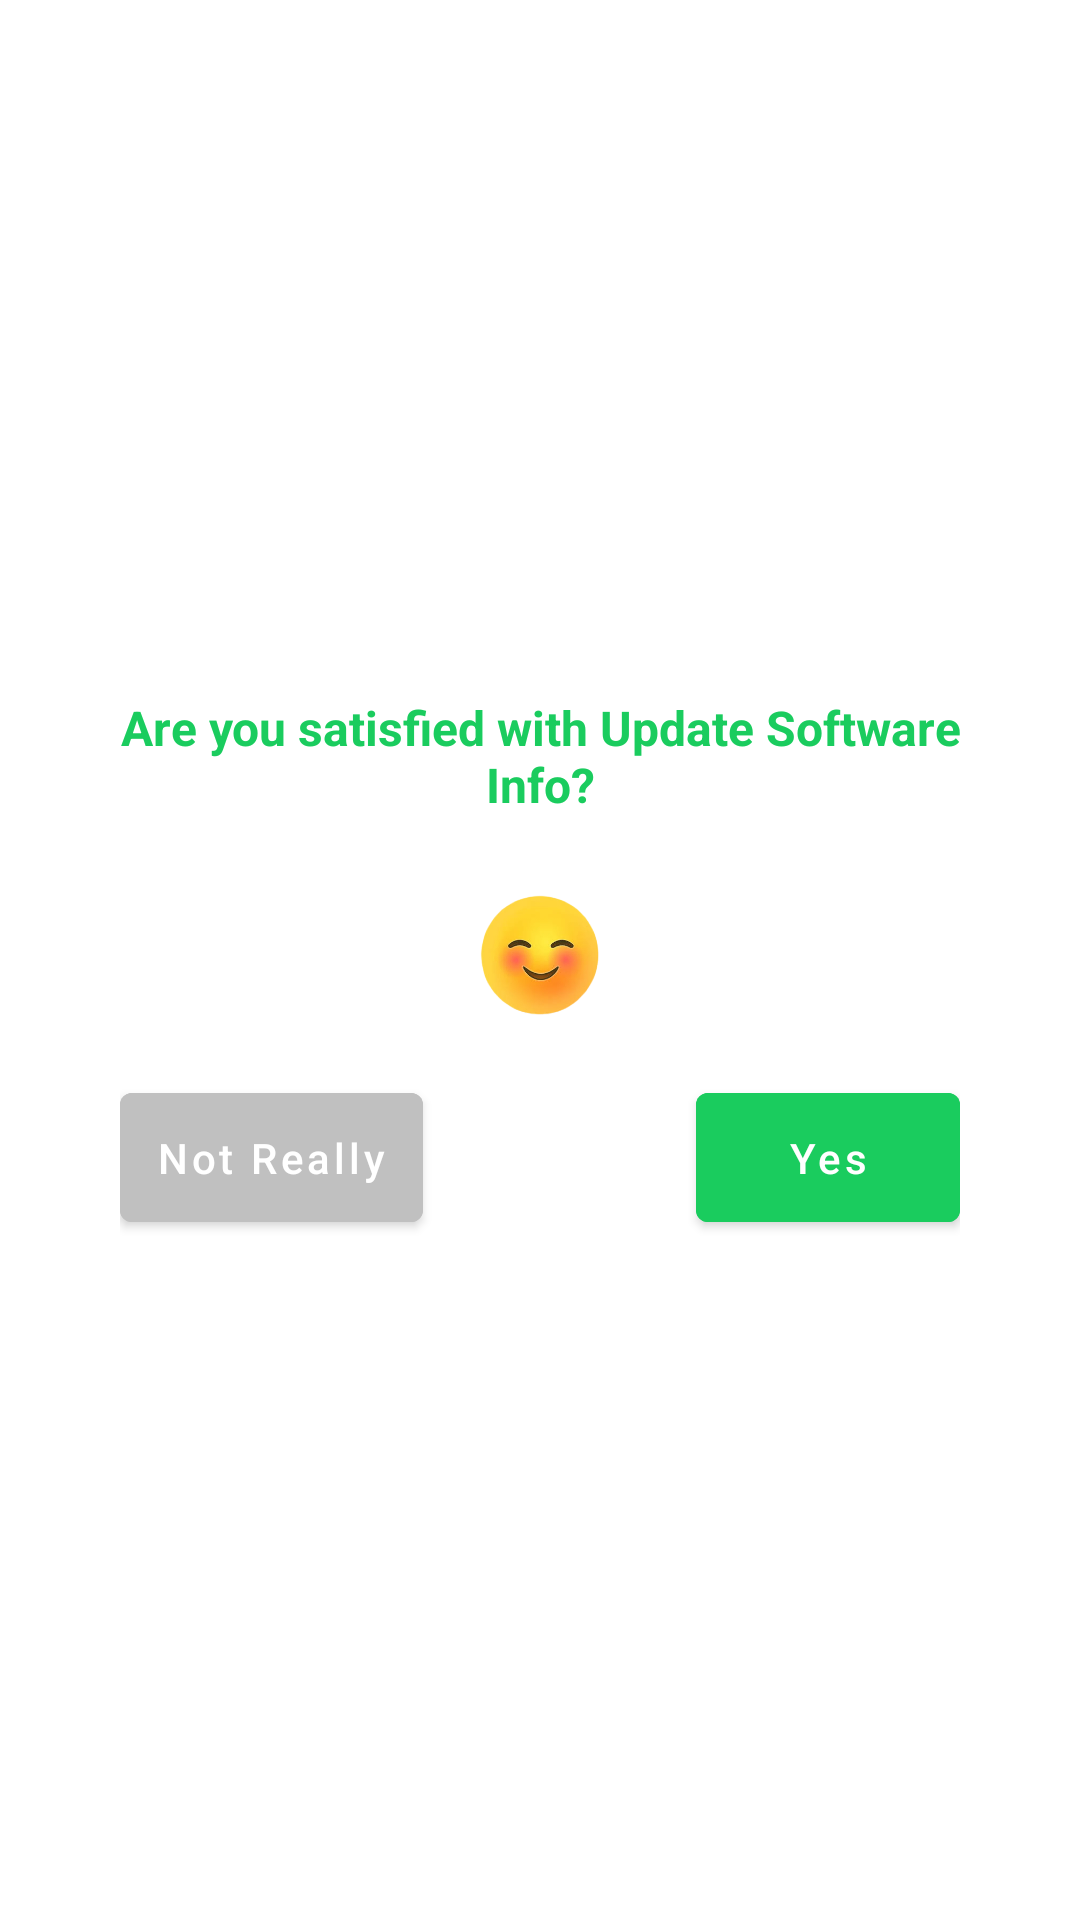

Icons on this 1080 × 1920 Android screen, each with its box as [x1,y1,x2,y2]:
emoji: [481,896,599,1015]
